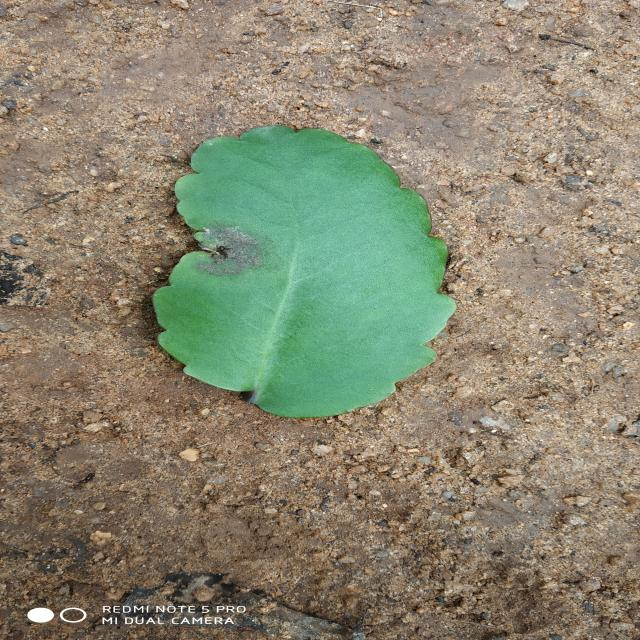defectedspinach: (153, 126, 456, 418), (200, 126, 427, 418), (193, 222, 262, 276)
spinach: (153, 126, 456, 418)
